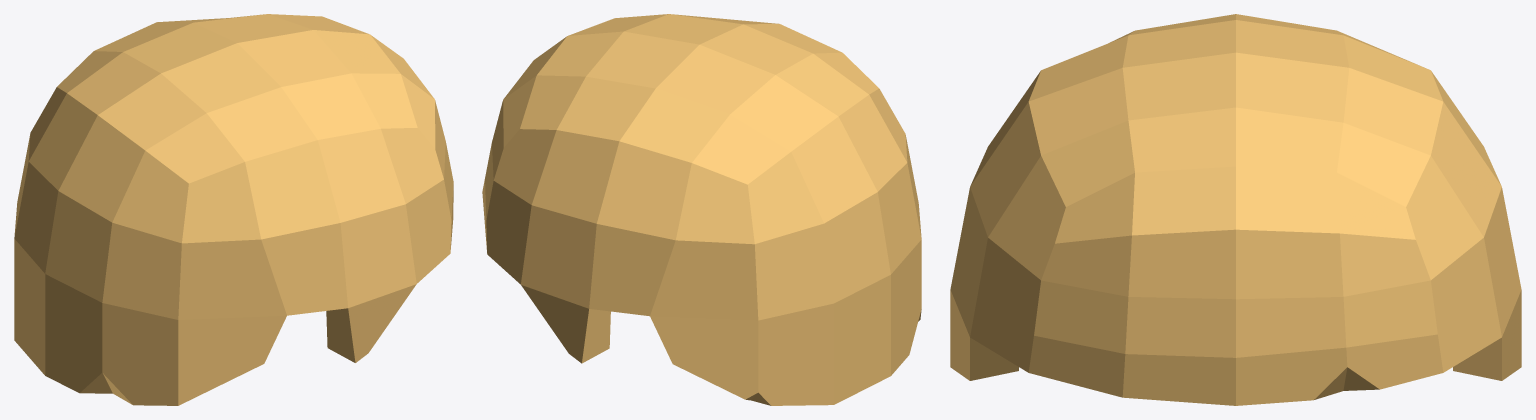
File: ManHairBlond.fbx
The picture shows the model from 3 angles, left to right: view 1: azimuth 30°, elevation 25°; view 2: azimuth 150°, elevation 25°; view 3: azimuth 270°, elevation 25°; orthographic projection. The views are drawn at different scales.
Parts seen in each view (by area): view 1: Cube; view 2: Cube; view 3: Cube.
Part boxes in pixels (left/top/right/bottom): Cube: left=14, top=14, right=453, bottom=405; Cube: left=482, top=14, right=921, bottom=405; Cube: left=950, top=14, right=1521, bottom=405.
Bounding box in the file's own units: 165 × 119 × 168.
